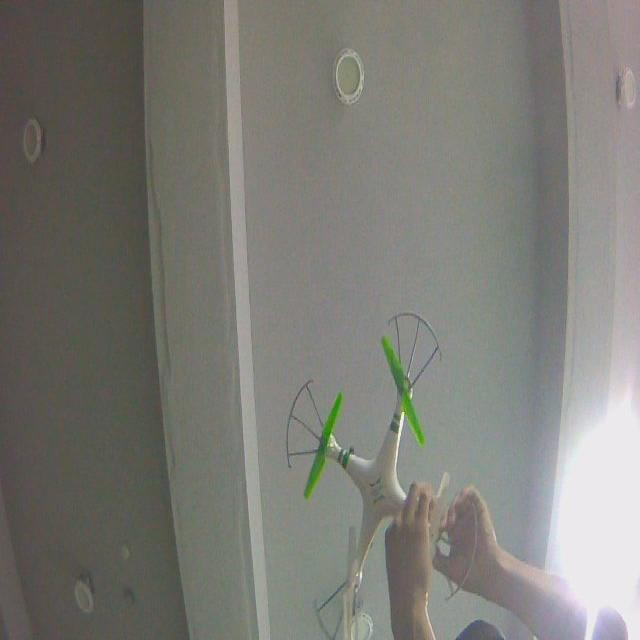drone: (284, 309, 479, 640)
